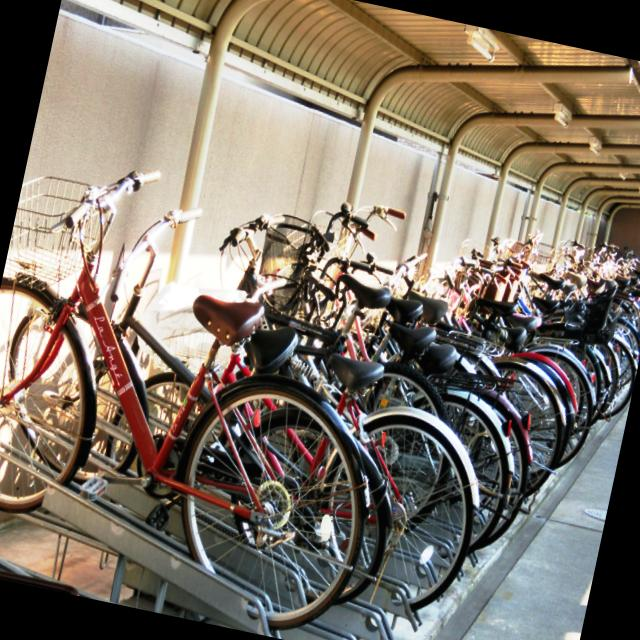bike: (0, 139, 434, 640), (0, 175, 451, 616), (83, 186, 531, 624)
